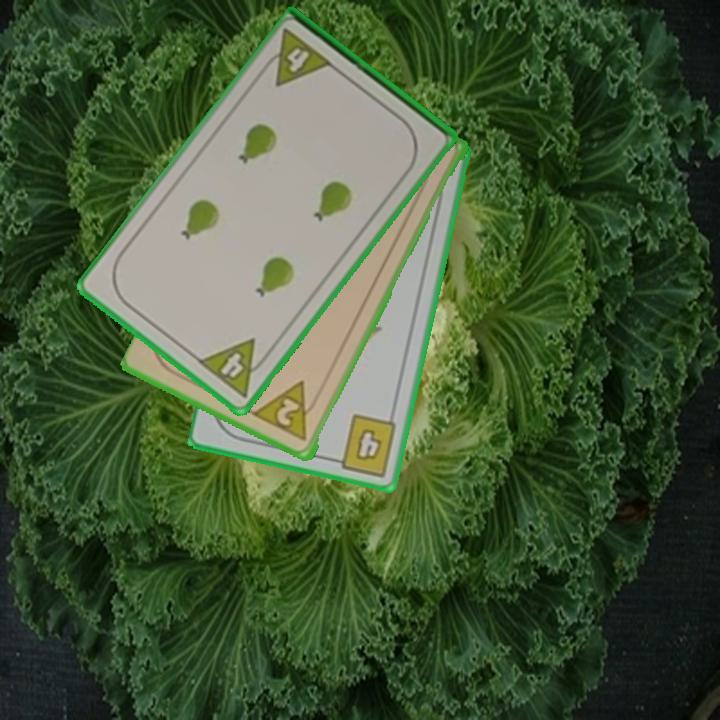2p: (251, 377, 323, 445)
4b: (327, 411, 400, 480)
4p: (194, 335, 275, 401), (257, 25, 337, 90)
